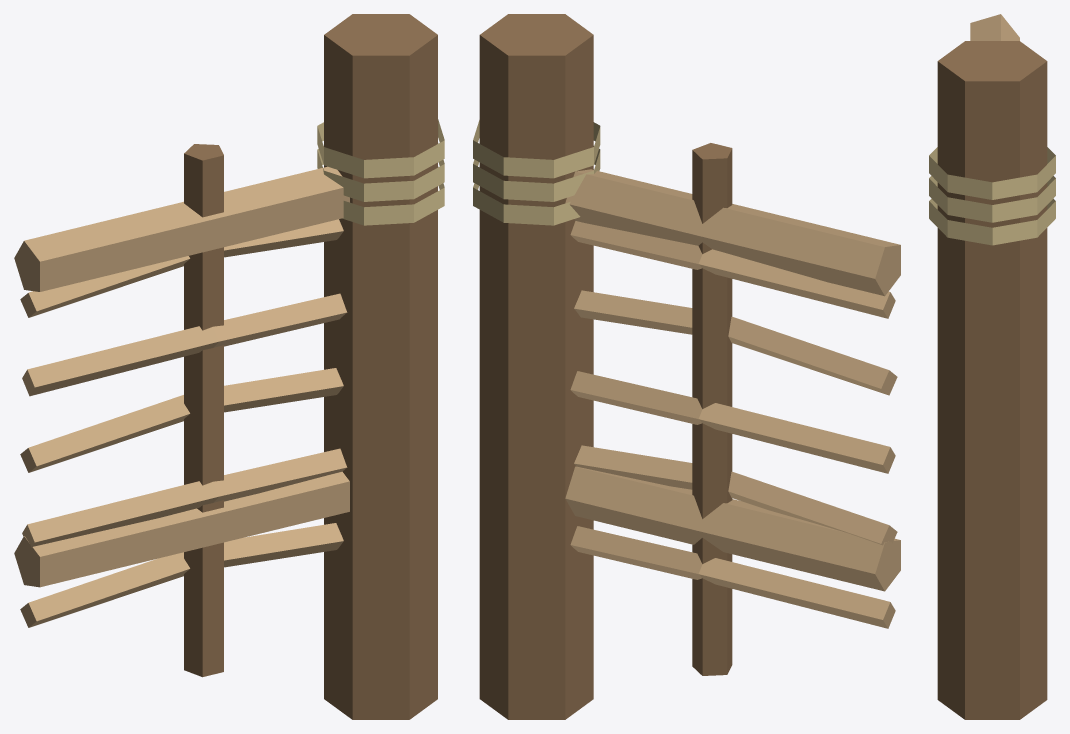
Rendered from pen_fence_08.glb.
3 views of the same model, side by side, from view 1: azimuth 30°, elevation 25°; view 2: azimuth 150°, elevation 25°; view 3: azimuth 270°, elevation 25° (orthographic). The views are drawn at different scales.
Visible parts, largest first — view 1: pen_fence_08; view 2: pen_fence_08; view 3: pen_fence_08.
Boxes of the visible parts, x1,y1,x2,y2 form: pen_fence_08: (14,14,444,719); pen_fence_08: (473,14,900,719); pen_fence_08: (929,14,1055,719).
Bounding box in the file's own units: 0.5823 × 0.9 × 0.162.
